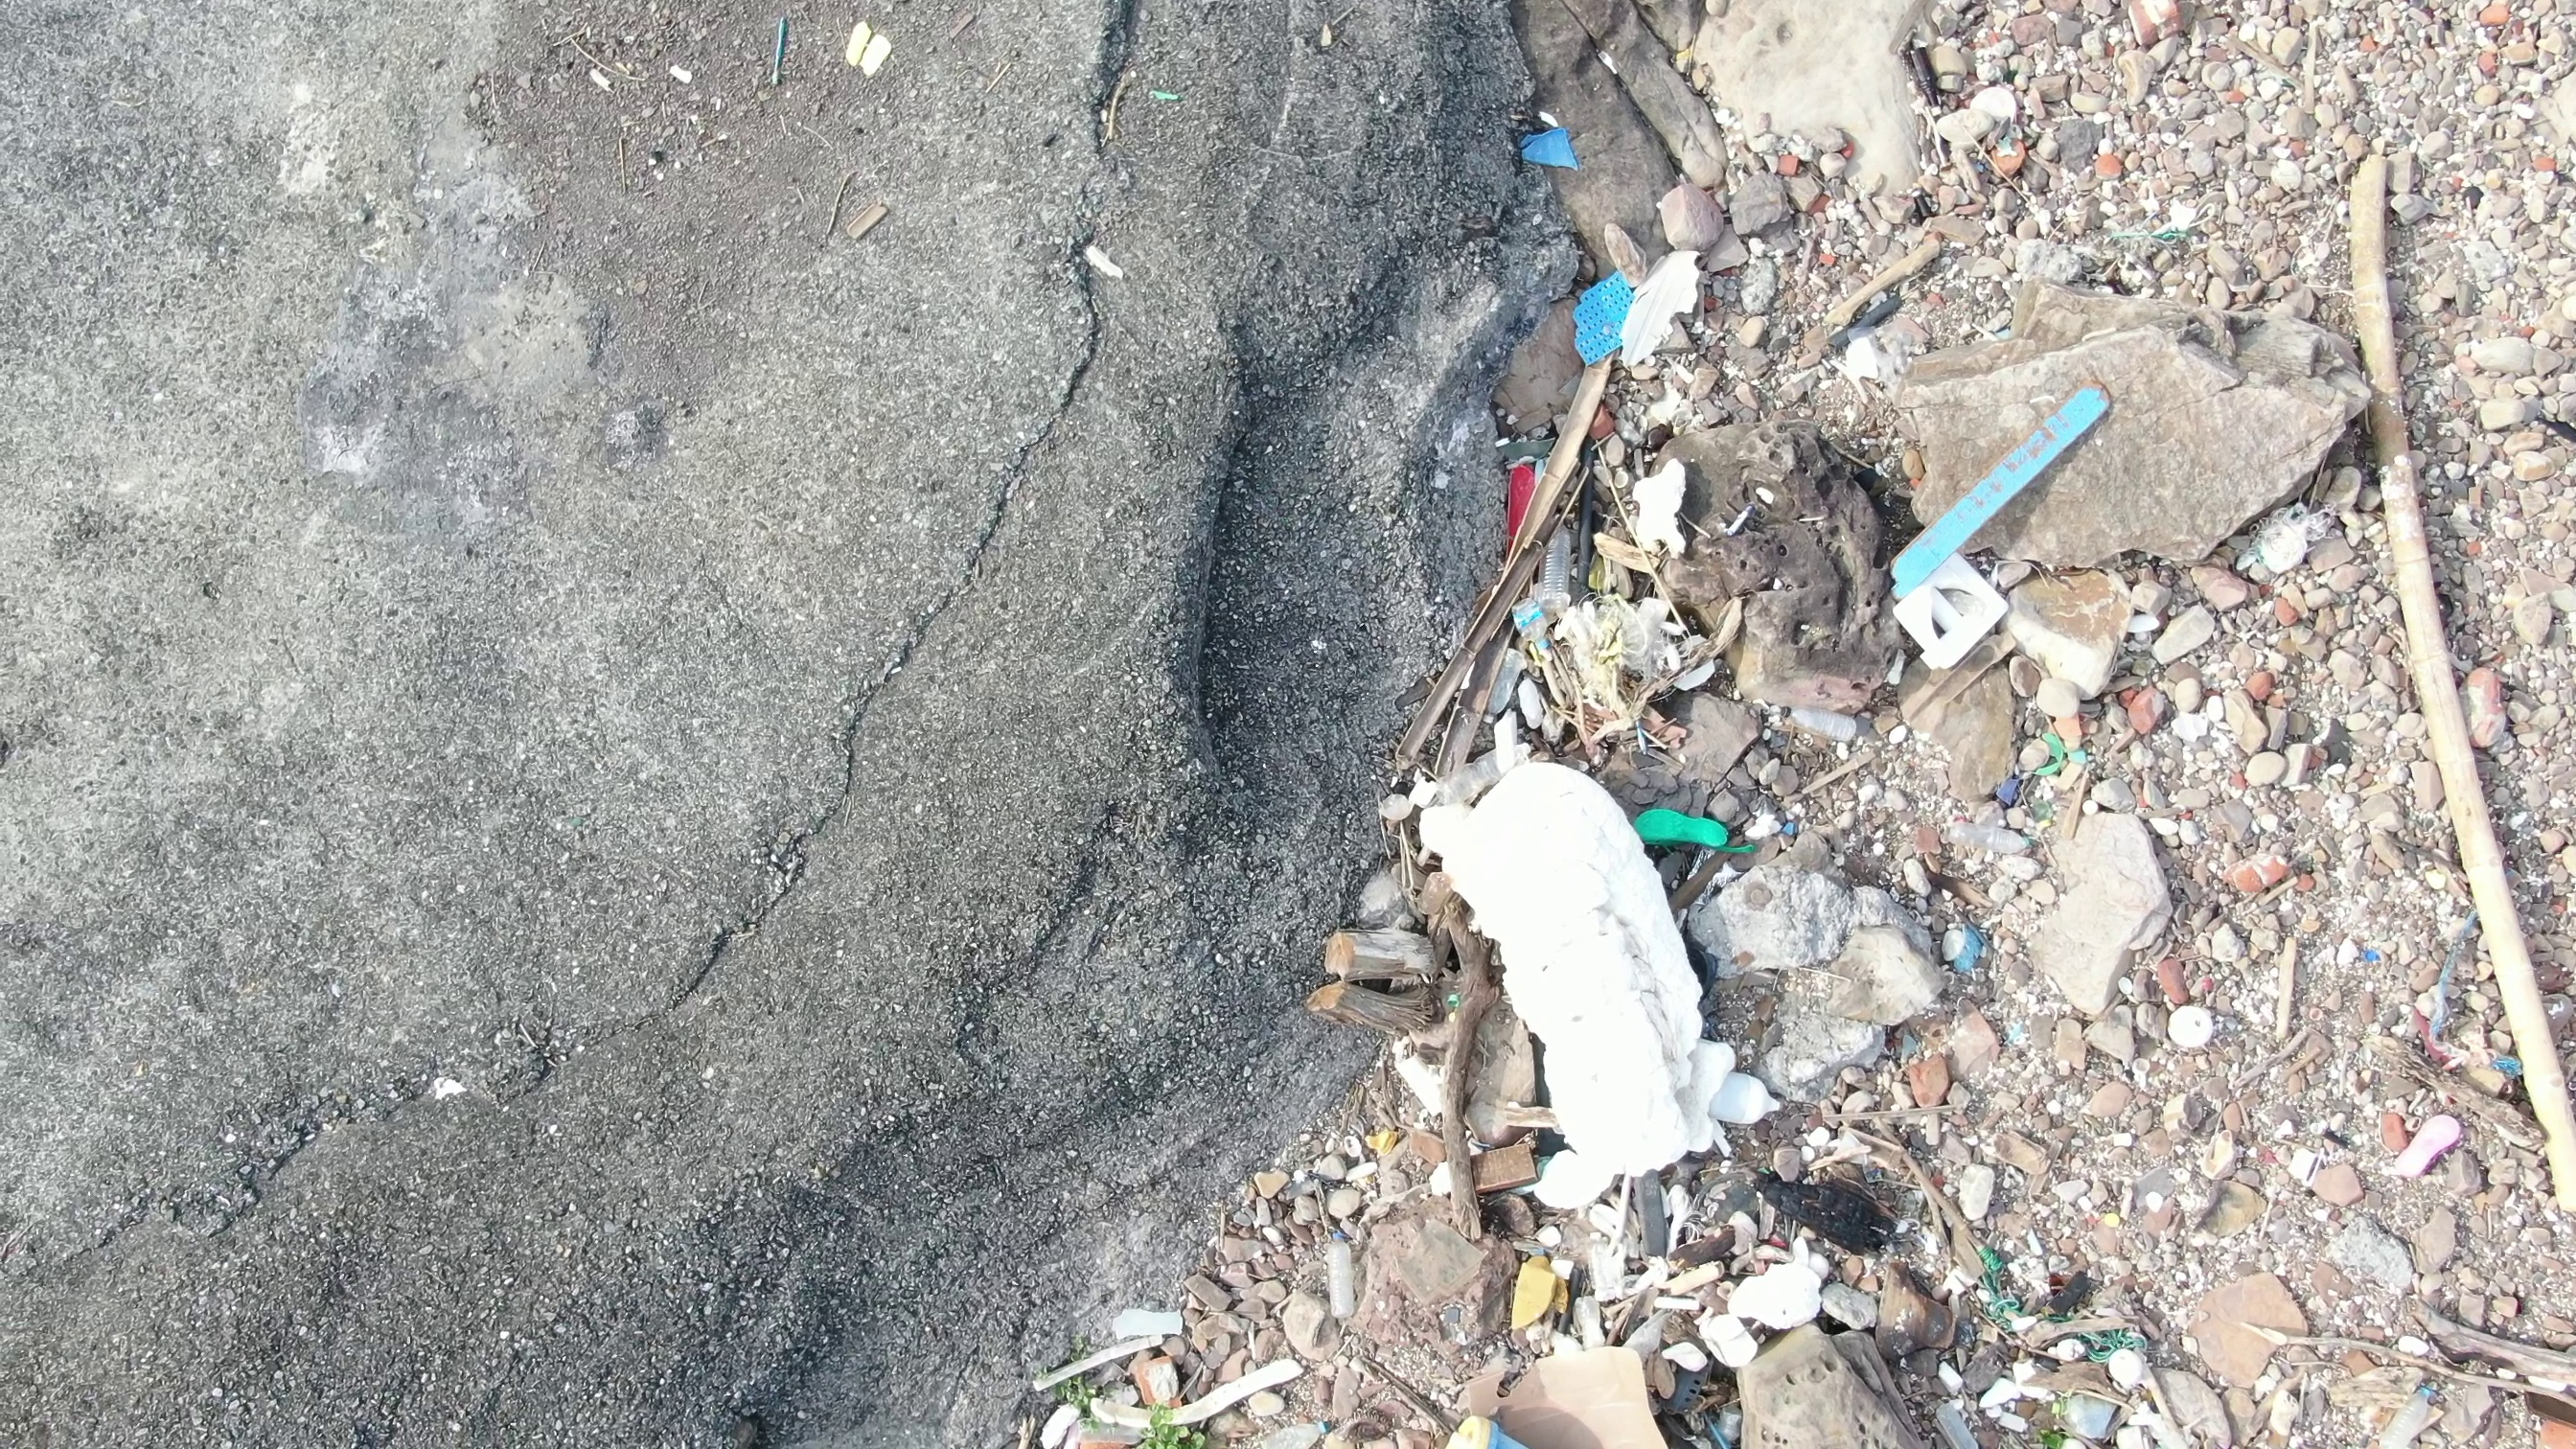bottle: (1536, 504, 1578, 623)
garbage: (1345, 752, 1913, 1341), (1470, 32, 1743, 814), (1867, 349, 2148, 692), (1951, 1244, 2155, 1376), (1376, 1362, 1525, 1449), (768, 9, 796, 113)
